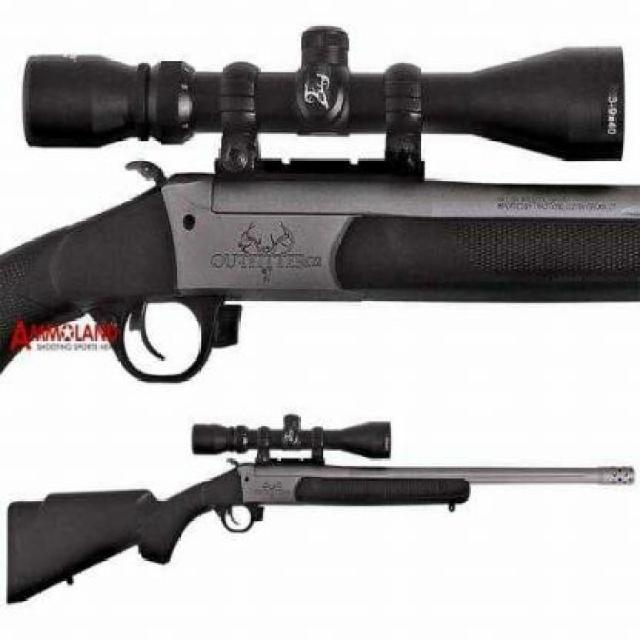weapon: (0, 47, 640, 388), (10, 414, 640, 572)
